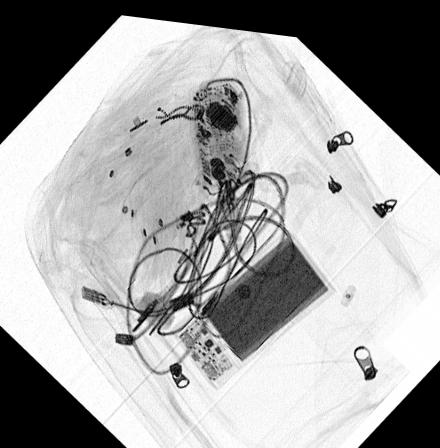Powerbank: (171, 217, 336, 385)
